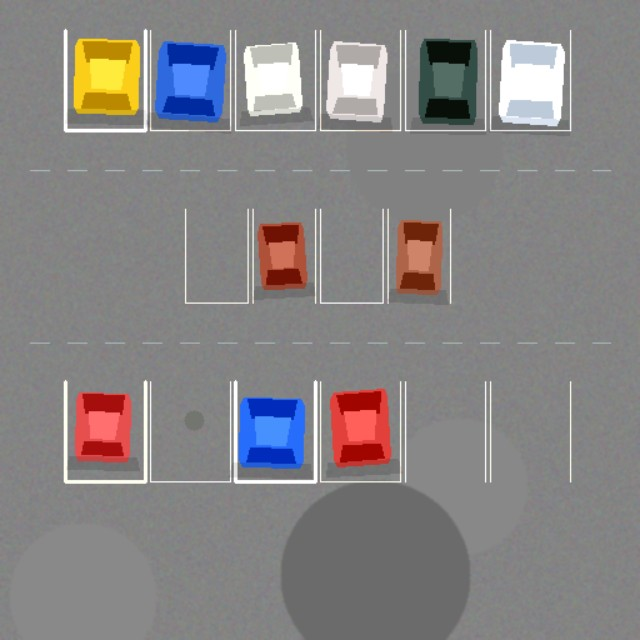space-empty: (150, 381, 230, 481), (405, 381, 485, 481), (490, 381, 570, 481), (185, 209, 248, 302), (320, 209, 382, 302)
space-occupied: (65, 30, 145, 130), (150, 30, 230, 130), (235, 30, 315, 130), (320, 30, 400, 130), (405, 30, 485, 130), (490, 30, 570, 130), (65, 381, 145, 481), (235, 381, 315, 481), (320, 381, 400, 481), (252, 209, 315, 302), (388, 209, 450, 302)
